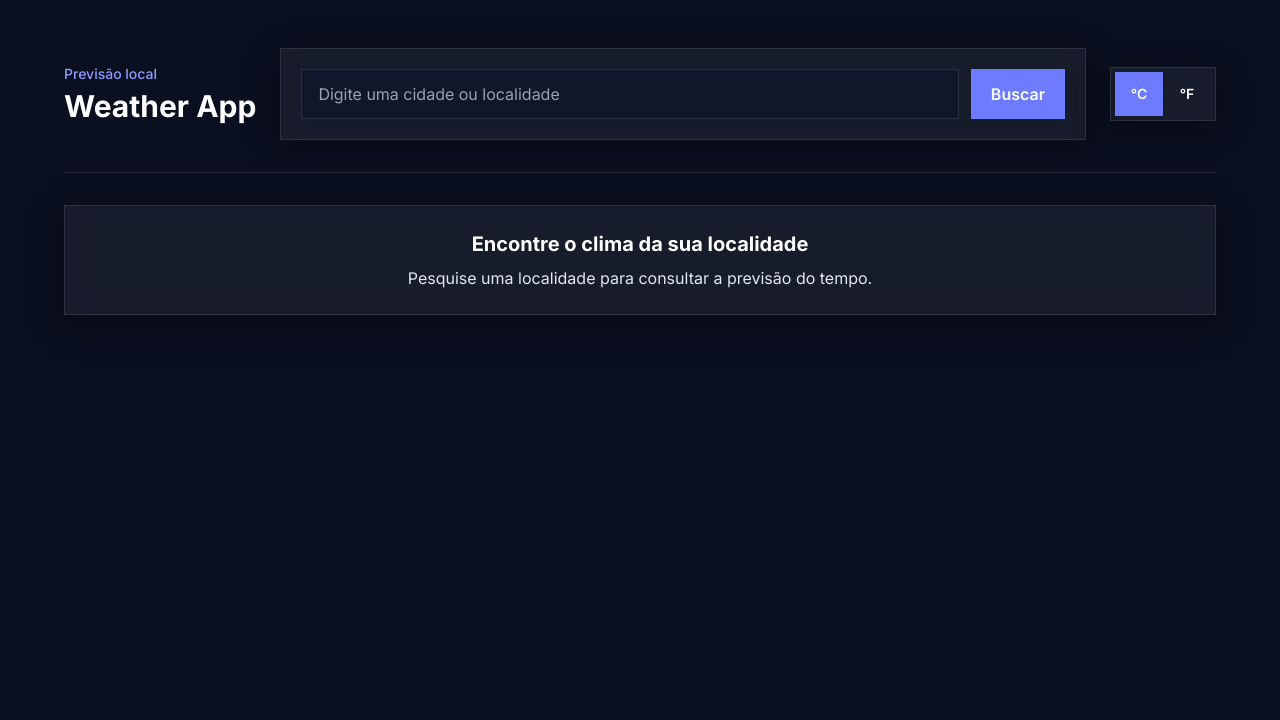
App › mostra os dados da cidade buscada e converte a temperatura ao alterar a unidade
The image size is (1280, 720).
Step 1. Type "Recife" into the search field named "Pesquisar localidade" → coordinates (630, 94), box left=301, top=69, right=959, bottom=119
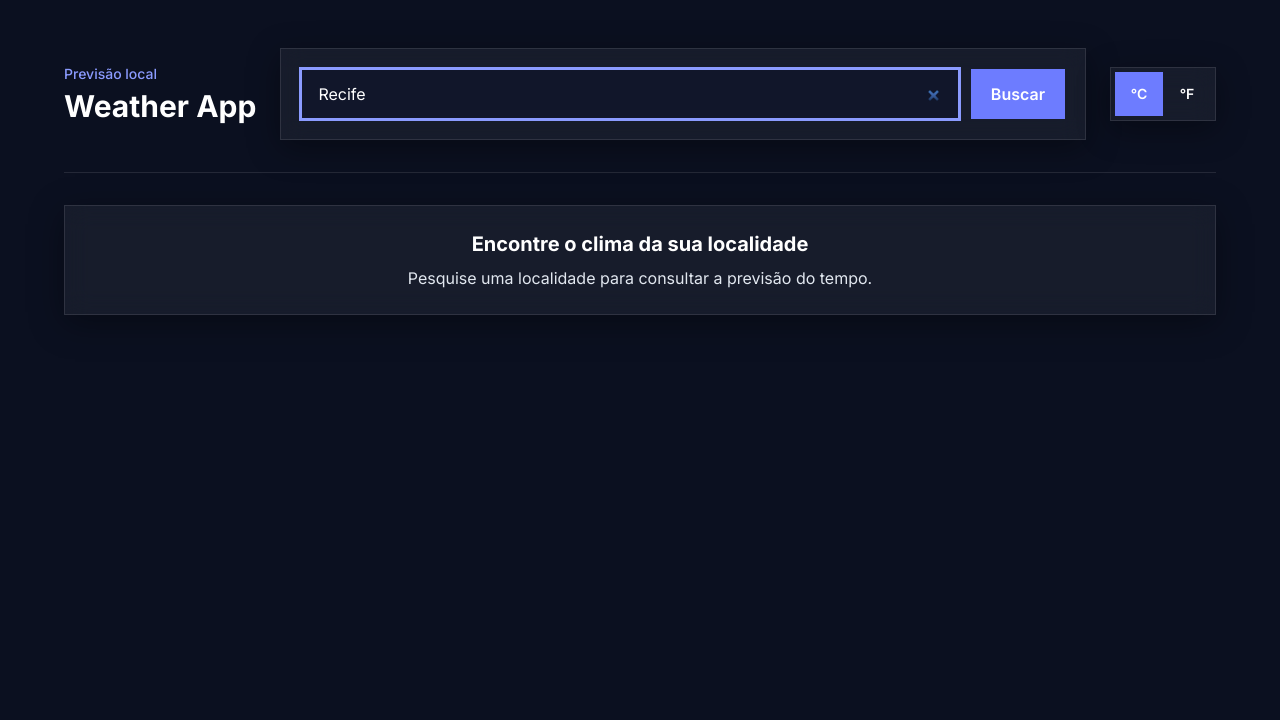
Step 2. Click the button "Buscar" → coordinates (1018, 94), box left=971, top=69, right=1065, bottom=119
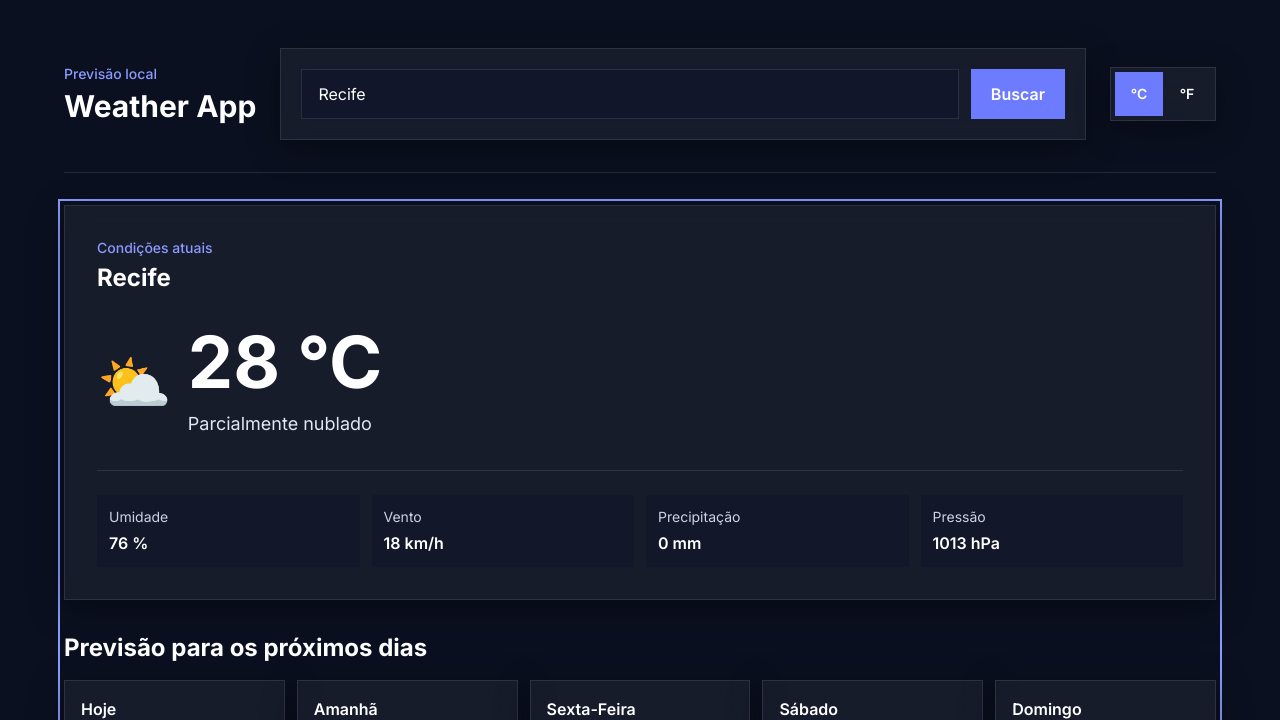
Now the text "28 °C" is shown 2 times
Step 3. Click the button named "Fahrenheit" → coordinates (1187, 94), box left=1163, top=72, right=1211, bottom=116
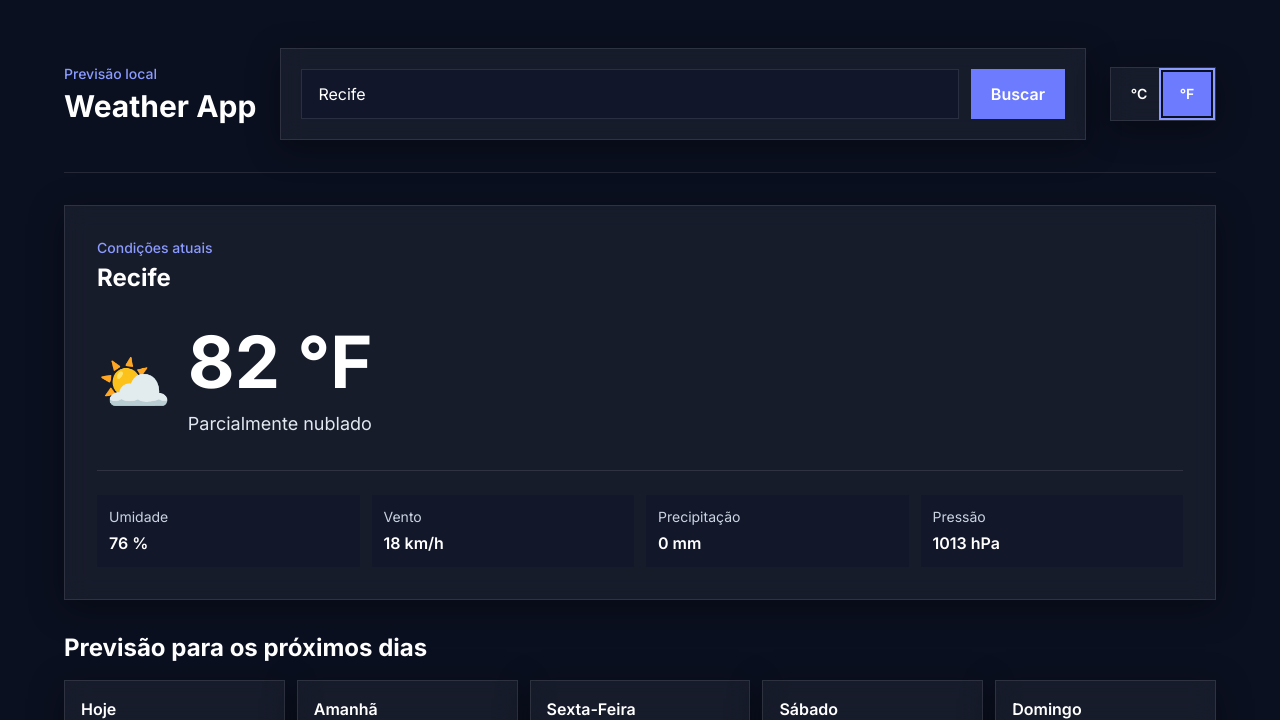
Now the text "82 °F" is shown 2 times
Now the text "28 °C" is gone
